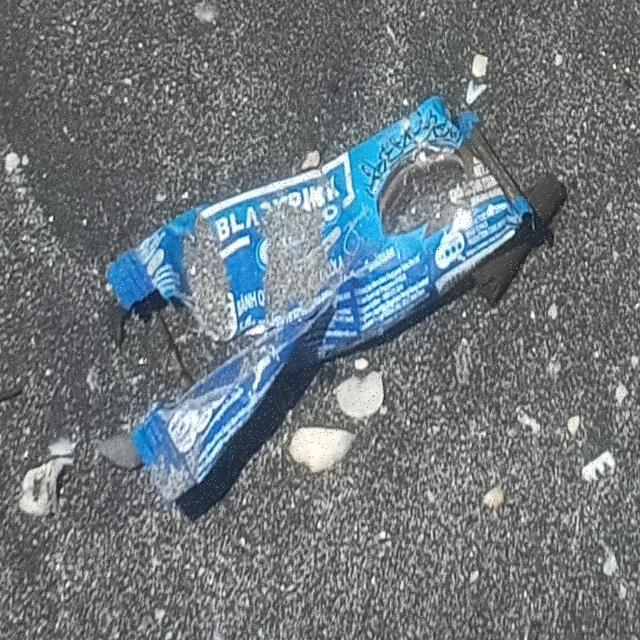plastic_waste: (103, 96, 537, 510)
